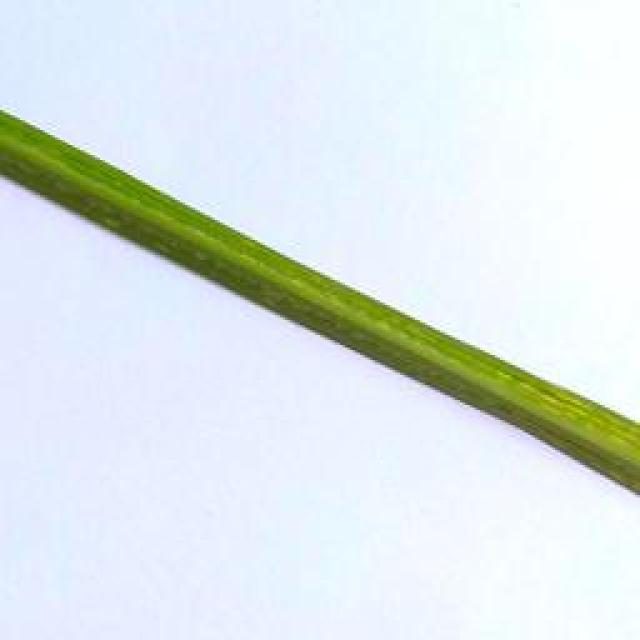Healthy-Plant: (0, 112, 640, 493)
